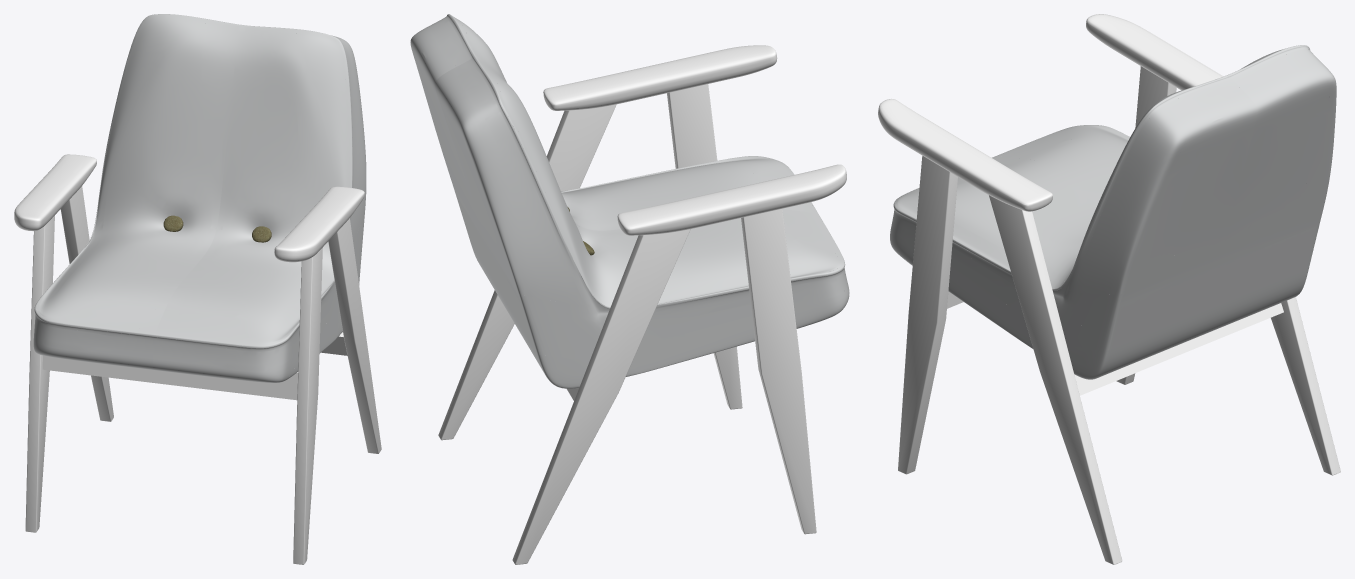
Rendered from armchair.glb.
3 views of the same model, side by side, from view 1: azimuth 30°, elevation 25°; view 2: azimuth 150°, elevation 25°; view 3: azimuth 270°, elevation 25° (orthographic). The views are drawn at different scales.
Parts seen in each view (by area): view 1: Cube.005_3, Cube_0, Cube.002_2, Cube.001_1; view 2: Cube.005_3, Cube_0; view 3: Cube.005_3, Cube_0, Cube.002_2.
Boxes of the visible parts, x1,y1,x2,y2 form: Cube.005_3: (33,14,366,382); Cube_0: (14,154,381,564); Cube.002_2: (42,332,347,400); Cube.001_1: (163,215,271,242); Cube.005_3: (410,14,849,388); Cube_0: (438,45,846,564); Cube.005_3: (890,45,1336,379); Cube_0: (878,14,1340,564); Cube.002_2: (947,291,1283,395).
Bounding box in the file's own units: 0.7178 × 0.7651 × 0.717.
Materials: 3 (1 with a texture image).
